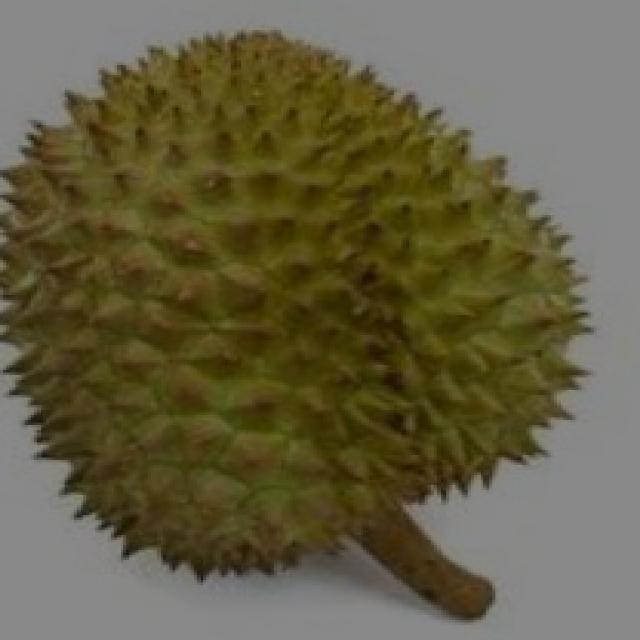fruit: (255, 168, 637, 578), (0, 238, 363, 622)
